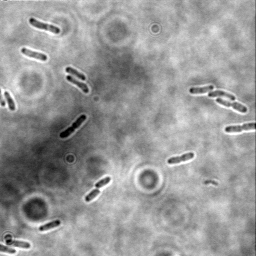Dividing: (59, 113, 88, 139), (215, 96, 249, 115), (28, 17, 62, 35), (166, 151, 196, 166), (223, 121, 255, 135)
Rod: (65, 73, 90, 95), (20, 46, 49, 64), (207, 88, 237, 101), (65, 65, 87, 82), (5, 238, 32, 251), (38, 219, 63, 233), (188, 84, 215, 96), (84, 187, 102, 203), (4, 90, 17, 112), (95, 175, 112, 189)
